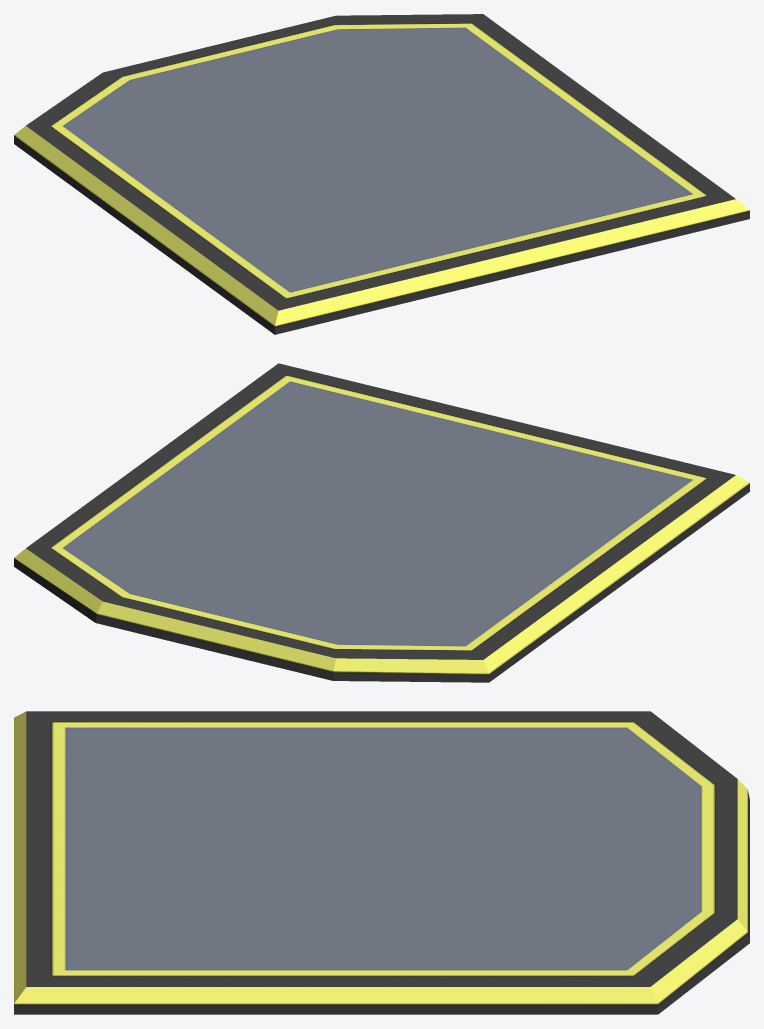
Rendered from Lift.fbx.
The picture shows the model from 3 angles, top to bottom: view 1: azimuth 30°, elevation 25°; view 2: azimuth 150°, elevation 25°; view 3: azimuth 270°, elevation 25°; orthographic projection. The views are drawn at different scales.
Visible parts, largest first — view 1: Lift; view 2: Lift; view 3: Lift.
Boxes of the visible parts, x1,y1,x2,y2 form: Lift: (14, 14, 749, 334); Lift: (14, 363, 749, 682); Lift: (14, 711, 749, 1014).
Size of the model in its own units: 1354 by 50 by 1472.
